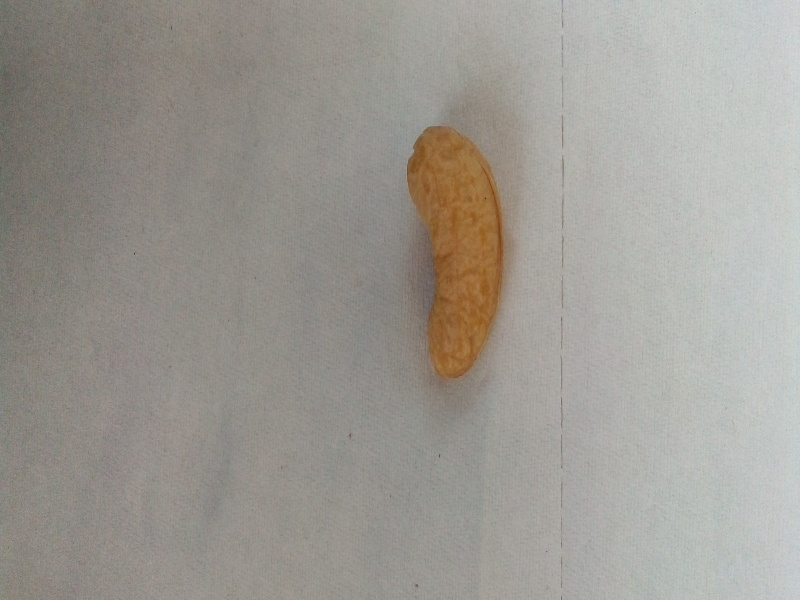cashew: (383, 97, 542, 401)
